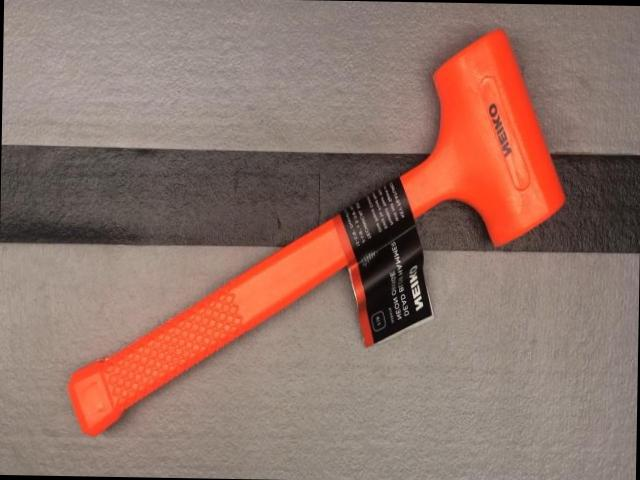hammer: (66, 21, 568, 441)
